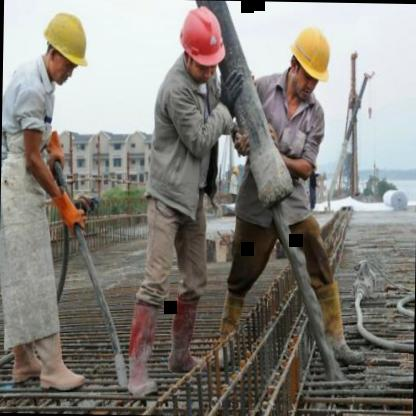helmet: (37, 3, 92, 87), (284, 16, 337, 102), (175, 6, 226, 82)
